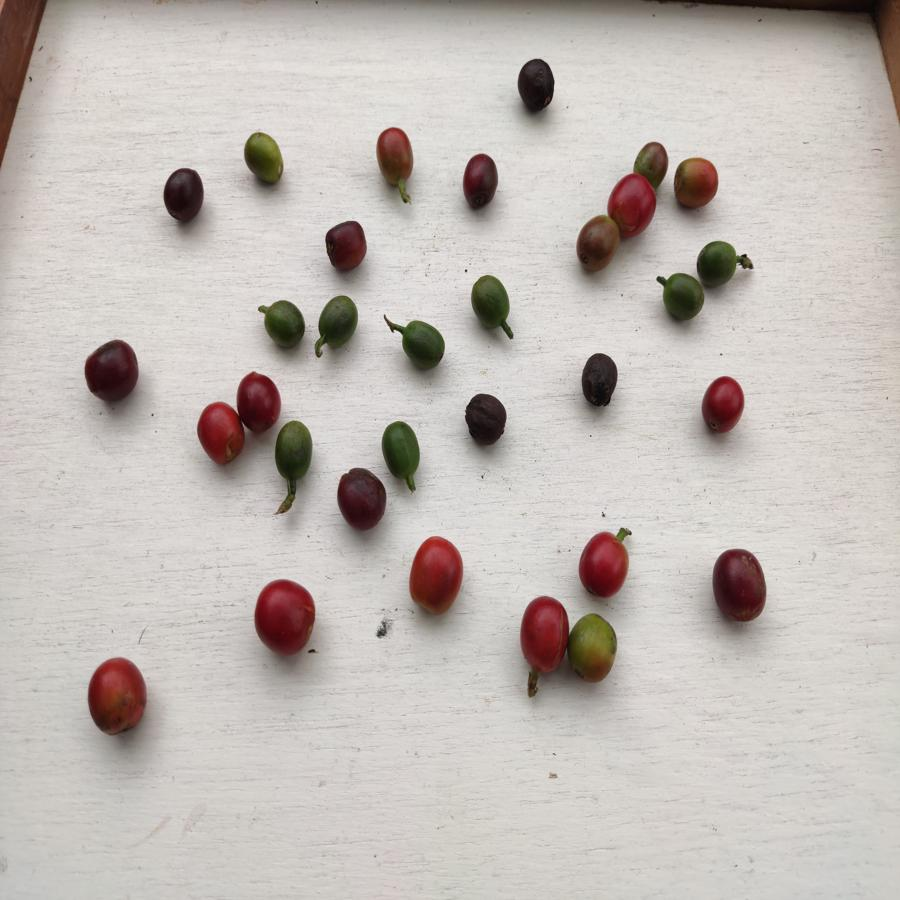Inmaduro: (398, 318, 450, 374), (466, 272, 512, 333), (379, 418, 422, 480), (693, 241, 742, 292), (275, 420, 314, 482), (314, 293, 358, 347), (264, 299, 307, 349), (660, 275, 705, 318)
Maduro: (405, 529, 466, 619), (249, 580, 319, 658), (85, 656, 148, 738), (576, 528, 631, 599), (519, 596, 568, 675), (193, 403, 245, 468), (610, 172, 655, 238), (235, 370, 279, 431), (702, 376, 743, 435)
Pinton: (568, 613, 618, 683), (673, 153, 723, 211), (239, 128, 286, 188), (573, 215, 619, 272), (375, 126, 415, 186), (632, 138, 669, 180)
Sobremaduro: (713, 543, 768, 628), (83, 335, 141, 406), (337, 467, 390, 532), (511, 56, 561, 115), (461, 390, 508, 446), (159, 168, 206, 223), (578, 353, 622, 411), (324, 221, 370, 273), (461, 152, 501, 209)
